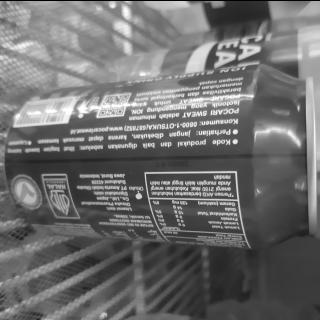alumunium_can: (0, 49, 318, 265)
